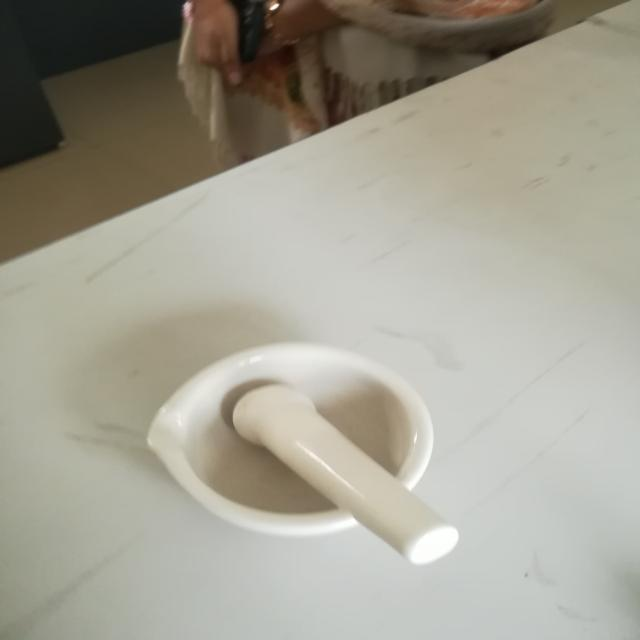Porcelain_Mortar Pestle: (99, 298, 530, 622)
